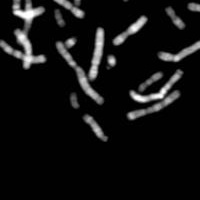chromosome: (56, 41, 104, 104), (130, 68, 184, 102), (126, 90, 181, 120), (158, 32, 200, 62), (113, 14, 147, 47), (0, 39, 45, 62), (87, 28, 104, 82), (35, 0, 84, 18), (14, 0, 33, 45), (14, 29, 32, 69), (83, 114, 108, 141), (11, 0, 44, 17), (138, 71, 163, 90), (167, 6, 185, 29), (69, 91, 80, 108), (54, 9, 64, 27), (105, 55, 116, 70), (64, 37, 77, 48), (188, 0, 200, 11), (74, 0, 87, 6), (112, 0, 129, 2)
